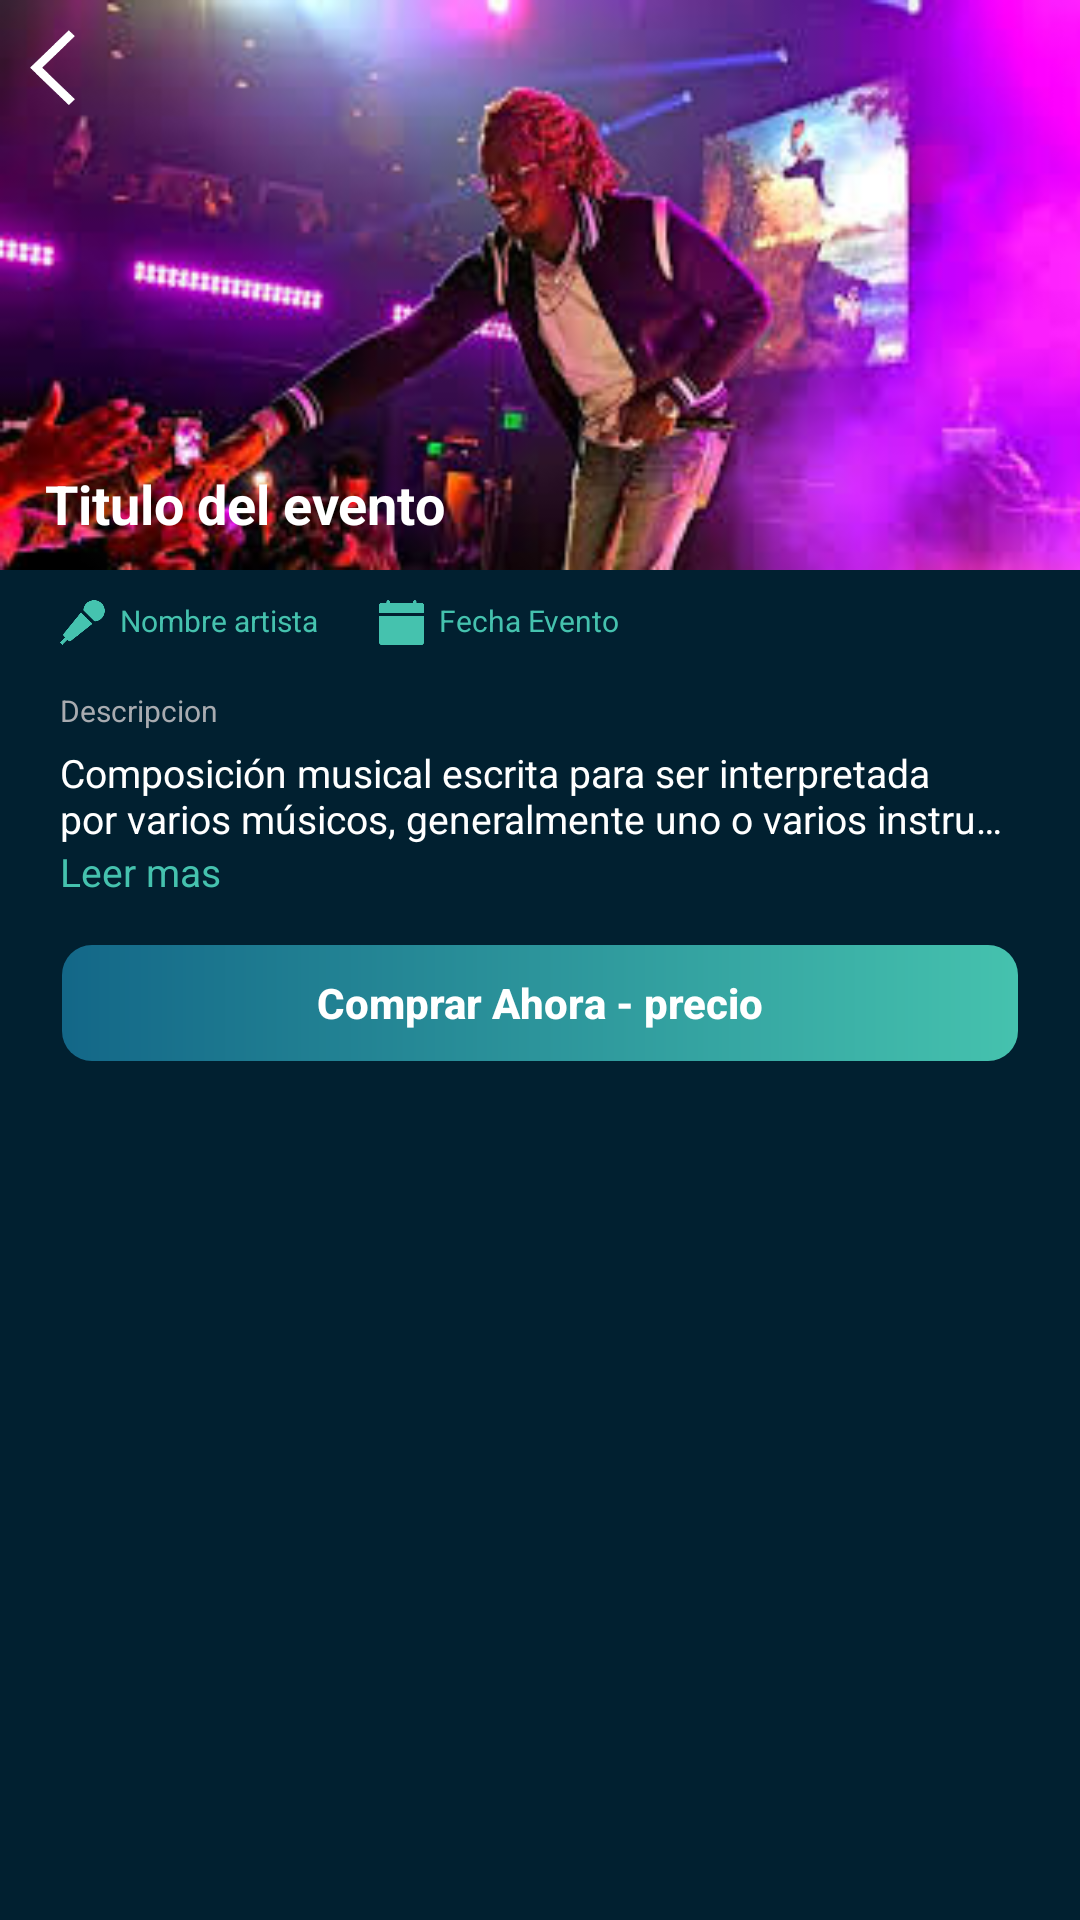

Screen size 1080 × 1920. Icon name, then its center in pixels as (x=x, y=y):
calendar: (x=401, y=622)
microphone: (x=82, y=622)
return arrow: (x=52, y=67)
